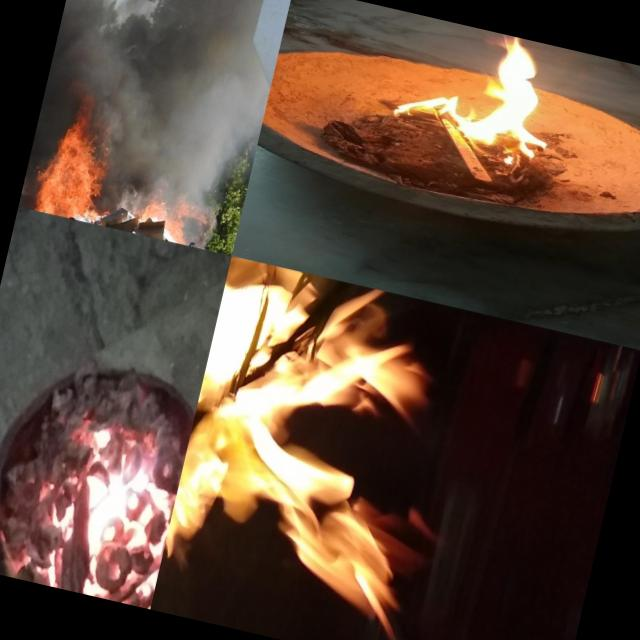fire: (149, 255, 491, 640), (14, 399, 190, 609), (377, 11, 574, 171), (18, 125, 103, 222), (131, 178, 198, 245)
smoke: (31, 0, 293, 195), (18, 130, 60, 212)
